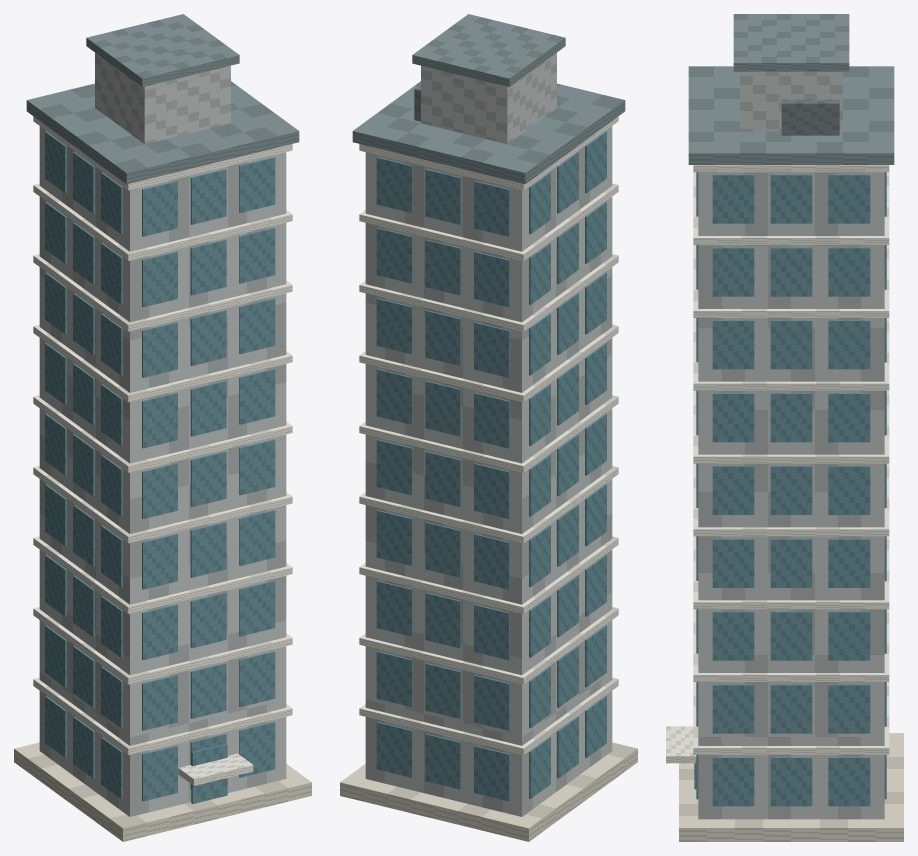
The model's file is tower.glb.
3 views of the same model, side by side, from view 1: azimuth 30°, elevation 25°; view 2: azimuth 150°, elevation 25°; view 3: azimuth 270°, elevation 25° (orthographic). The views are drawn at different scales.
Visible parts, largest first — view 1: Main structure, Facade glazing (×26), Side glazing (×27), Cornice (×9), Roof cap, Crown, Foundation, Crown roof, Entry canopy, Entry door; view 2: Main structure, Facade glazing (×27), Side glazing (×27), Cornice (×9), Roof cap, Foundation, Crown, Crown roof; view 3: Side glazing (×27), Main structure, Cornice (×9), Roof cap, Foundation, Crown roof, Crown, Roof service room, Entry canopy.
Part boxes in pixels (left/top/right/bottom): Main structure: left=39, top=126, right=286, bottom=816; Facade glazing (×26): left=142, top=157, right=275, bottom=801; Side glazing (×27): left=45, top=131, right=122, bottom=798; Cornice (×9): left=33, top=116, right=292, bottom=755; Roof cap: left=26, top=81, right=299, bottom=184; Crown: left=95, top=52, right=230, bottom=143; Foundation: left=14, top=742, right=311, bottom=841; Crown roof: left=86, top=14, right=239, bottom=86; Entry canopy: left=178, top=753, right=253, bottom=785; Entry door: left=191, top=743, right=227, bottom=803; Main structure: left=365, top=126, right=612, bottom=816; Facade glazing (×27): left=376, top=157, right=509, bottom=801; Side glazing (×27): left=529, top=131, right=606, bottom=798; Cornice (×9): left=359, top=116, right=618, bottom=755; Roof cap: left=352, top=81, right=625, bottom=184; Foundation: left=340, top=742, right=637, bottom=841; Crown: left=421, top=52, right=556, bottom=143; Crown roof: left=412, top=14, right=565, bottom=86; Side glazing (×27): left=712, top=174, right=870, bottom=806; Main structure: left=698, top=172, right=884, bottom=819; Cornice (×9): left=693, top=165, right=889, bottom=754; Roof cap: left=688, top=66, right=894, bottom=164; Foundation: left=679, top=733, right=903, bottom=841; Crown roof: left=733, top=14, right=849, bottom=71; Crown: left=740, top=71, right=842, bottom=131; Roof service room: left=781, top=99, right=839, bottom=135; Entry canopy: left=666, top=726, right=696, bottom=763.
Size of the model in its own units: 3.5 by 12.97 by 3.7.
6 materials, 6 textured.
